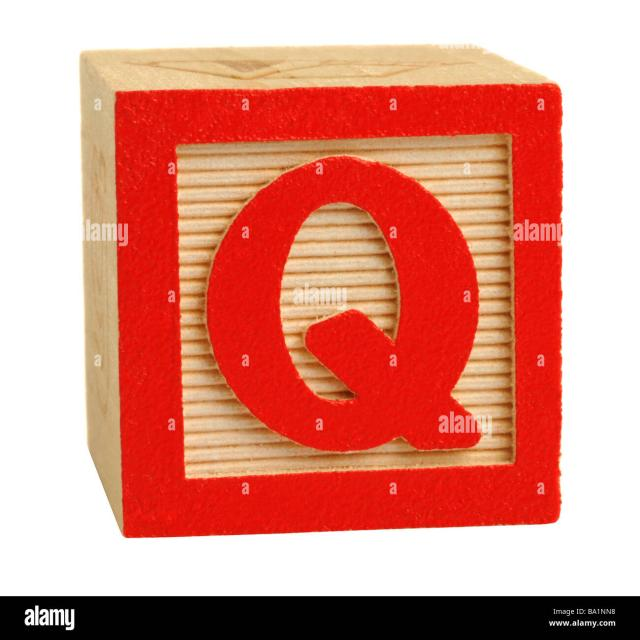Q: (188, 150, 508, 460)
